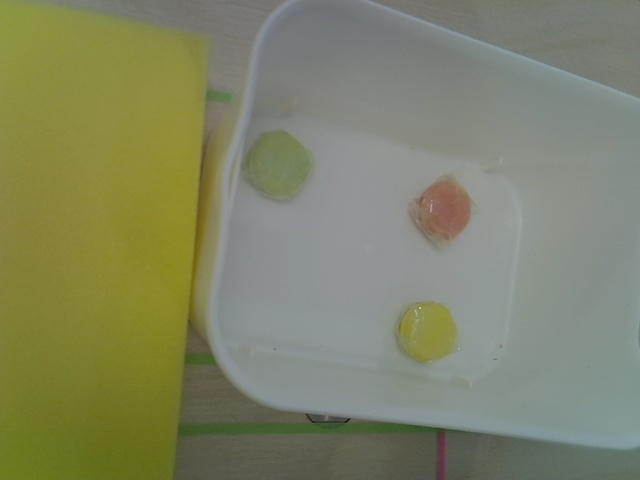씨앗: (247, 130, 314, 201), (399, 302, 459, 359), (419, 179, 474, 238)
